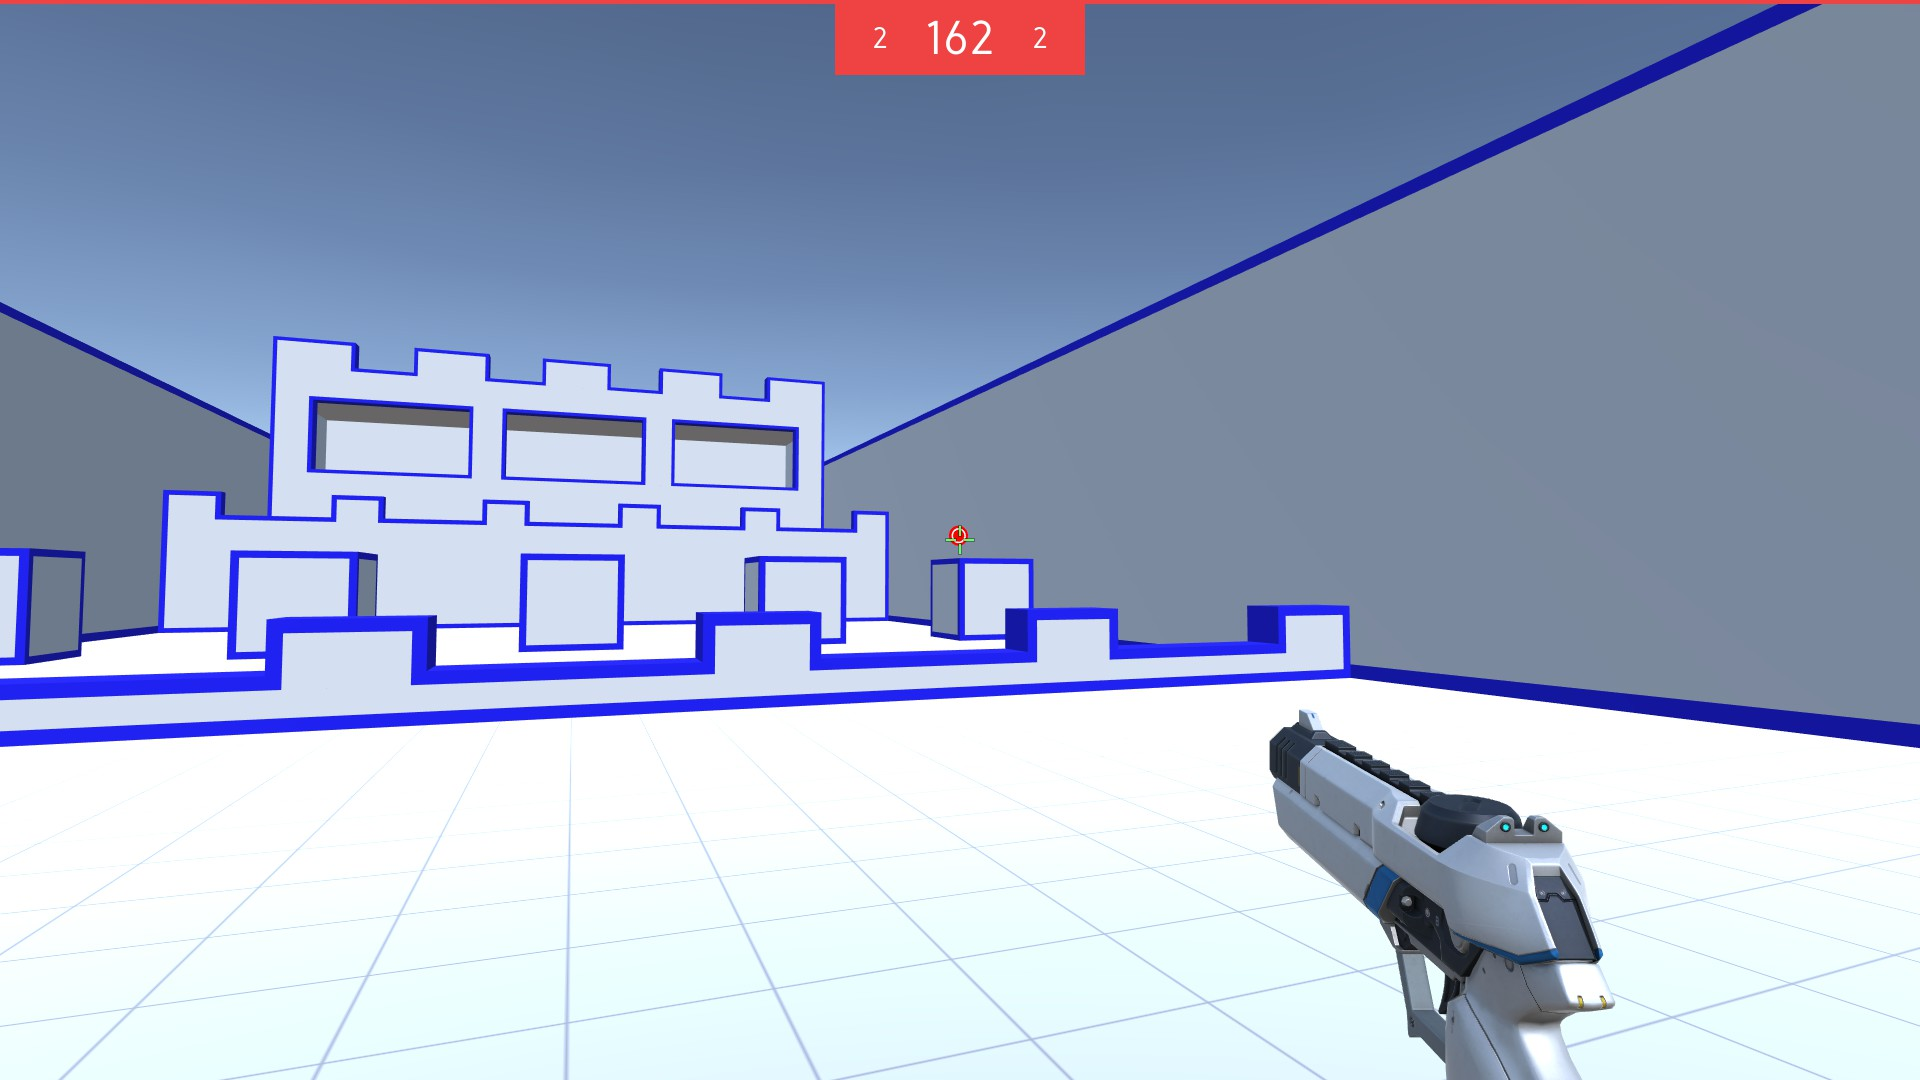target: (947, 525, 969, 546)
